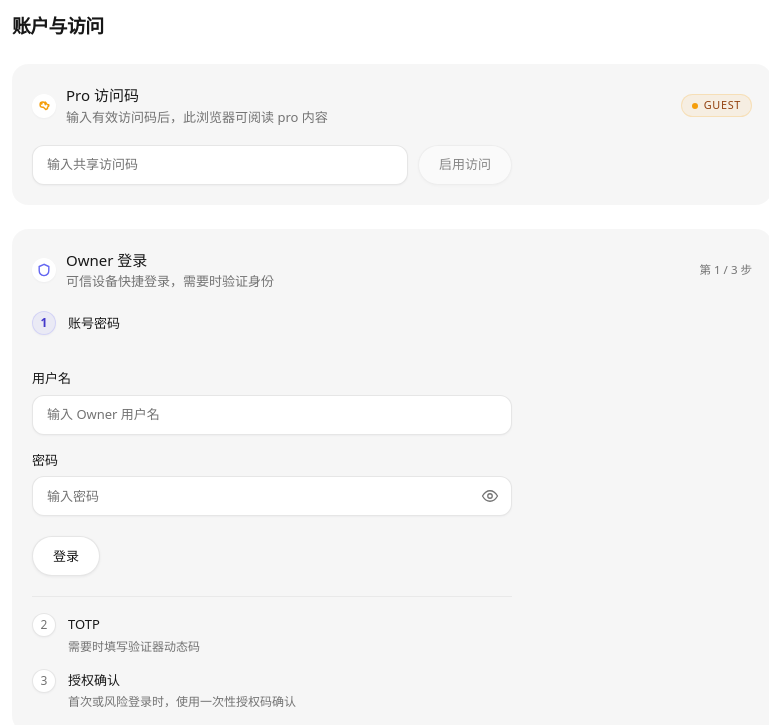
Test: submits credentials and advances only after the server establishes a TOTP challenge
Type "owner" into the field labelled "用户名" at (272, 415), box [32,395,512,435]
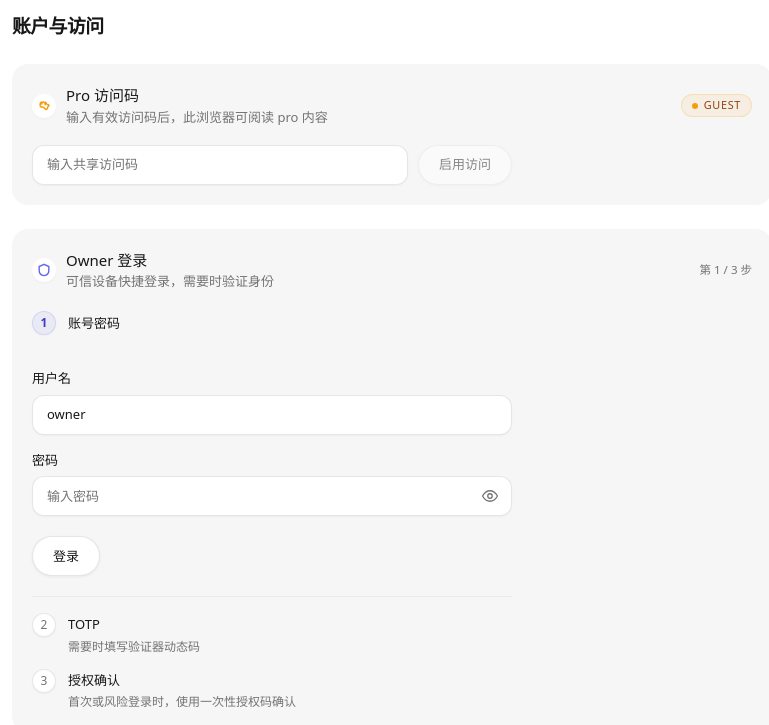
Type "a-real-form-password" into the password field labelled "密码" at (272, 496), box [32,476,512,516]
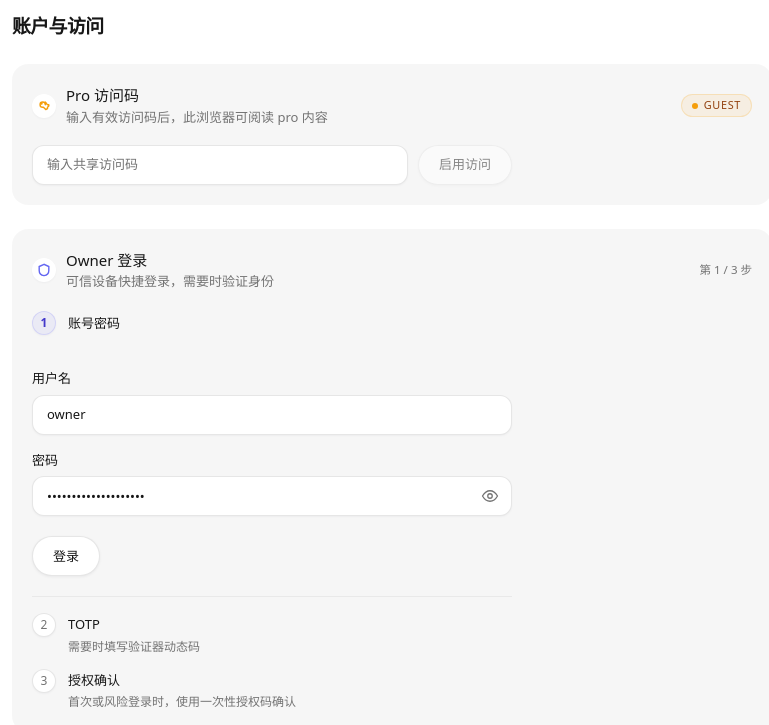
Click the button "登录" at (66, 556), box [32,536,100,576]
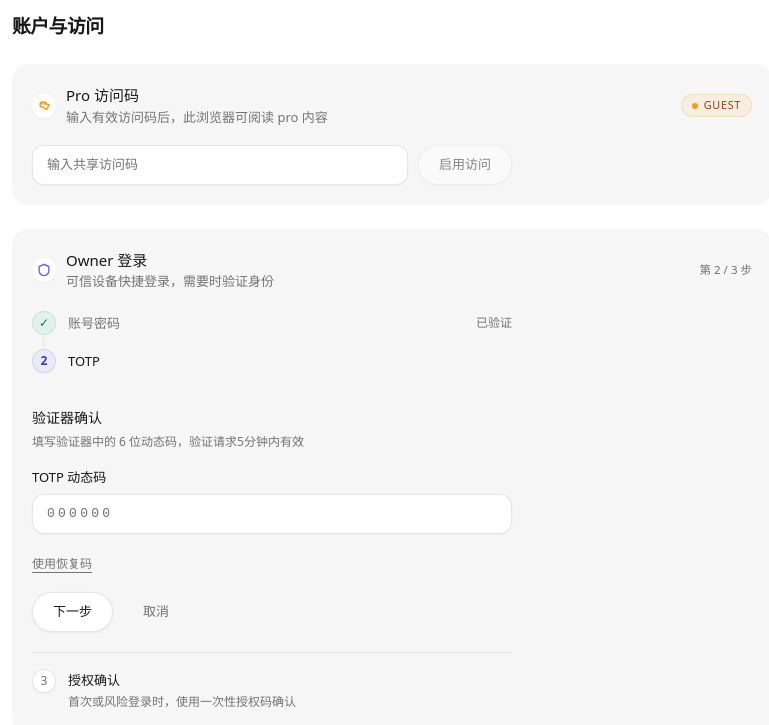
Expected: the field labelled "TOTP 动态码" is shown, [32,494,512,534]
